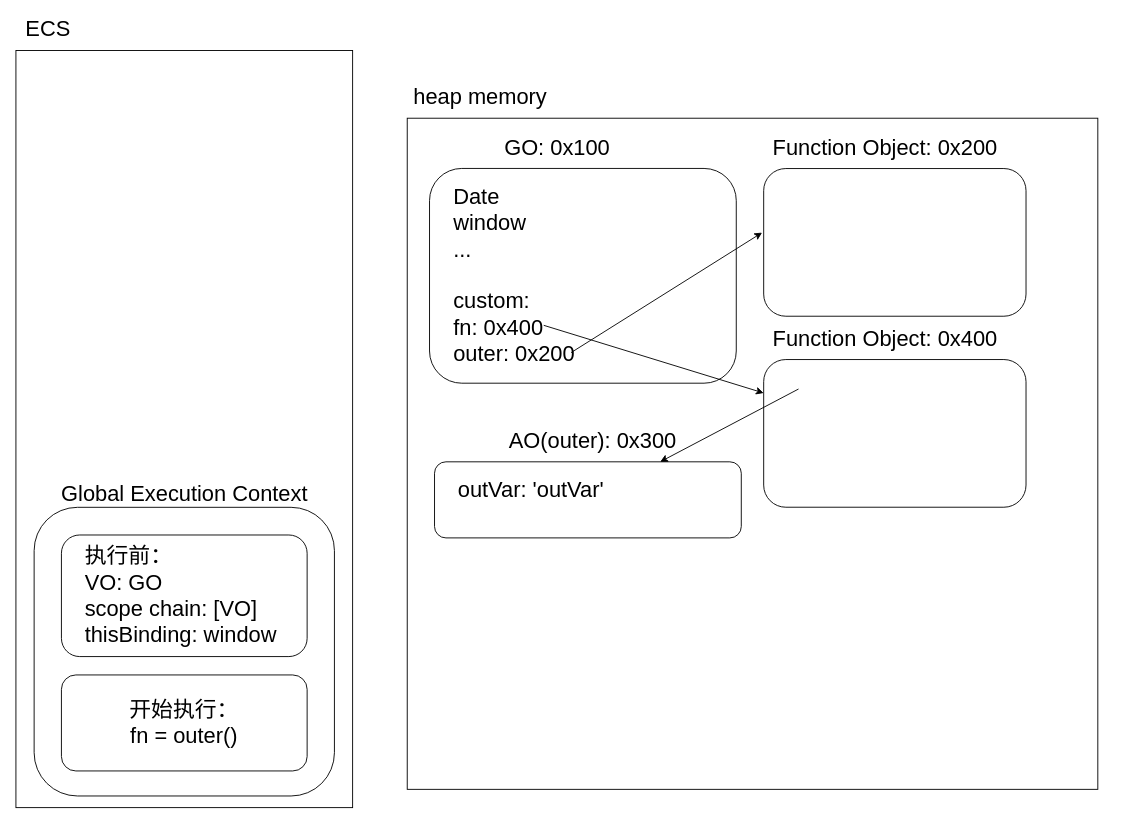
The diagram is 1142 pixels wide and 824 high, and some of its shapes have lost their labels. Here are the shapes that lost their labels. From the top down, the box of each, then its label:
(763, 168, 1026, 316): [parent scope] function outer() { ... }
(763, 359, 1026, 507): [parent scope] function inner() { ... }
